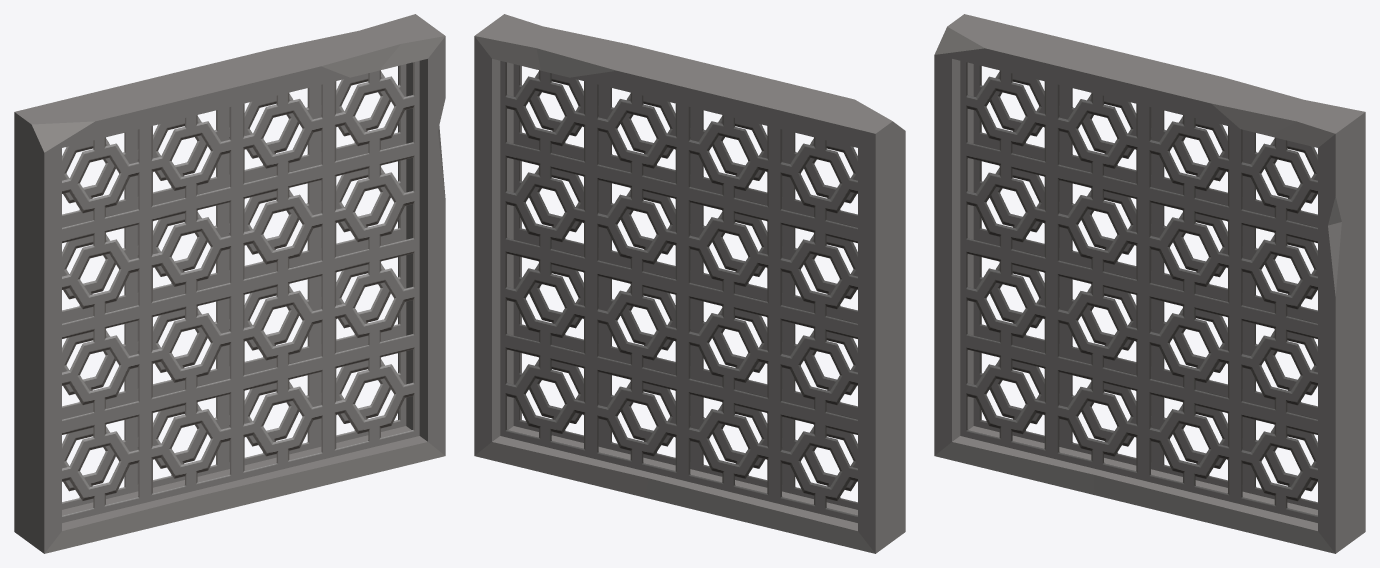
The model's file is SM_Bld_Decorative_Block_07.fbx.
The picture shows the model from 3 angles, left to right: view 1: azimuth 30°, elevation 25°; view 2: azimuth 150°, elevation 25°; view 3: azimuth 330°, elevation 25°; orthographic projection.
Parts seen in each view (by area): view 1: SM_Bld_Decorative_Block_07; view 2: SM_Bld_Decorative_Block_07; view 3: SM_Bld_Decorative_Block_07.
Part boxes in pixels (bbox=[...]): SM_Bld_Decorative_Block_07: bbox=[14, 14, 445, 553]; SM_Bld_Decorative_Block_07: bbox=[474, 14, 905, 553]; SM_Bld_Decorative_Block_07: bbox=[934, 14, 1365, 553].
Size of the model in its own units: 182 by 182 by 23.56.
